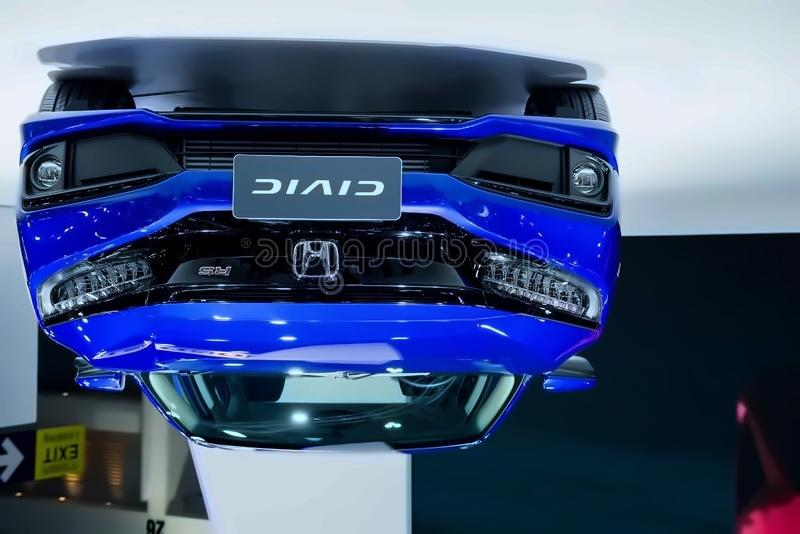Car hood: (39, 292, 610, 384)
Front bumper: (9, 104, 631, 265)
Headlight - -L-: (32, 245, 160, 326)
Headlight - -R-: (469, 240, 604, 325)
Side mirror - -L-: (60, 349, 140, 400)
Side mirror - -R-: (530, 347, 598, 414)
